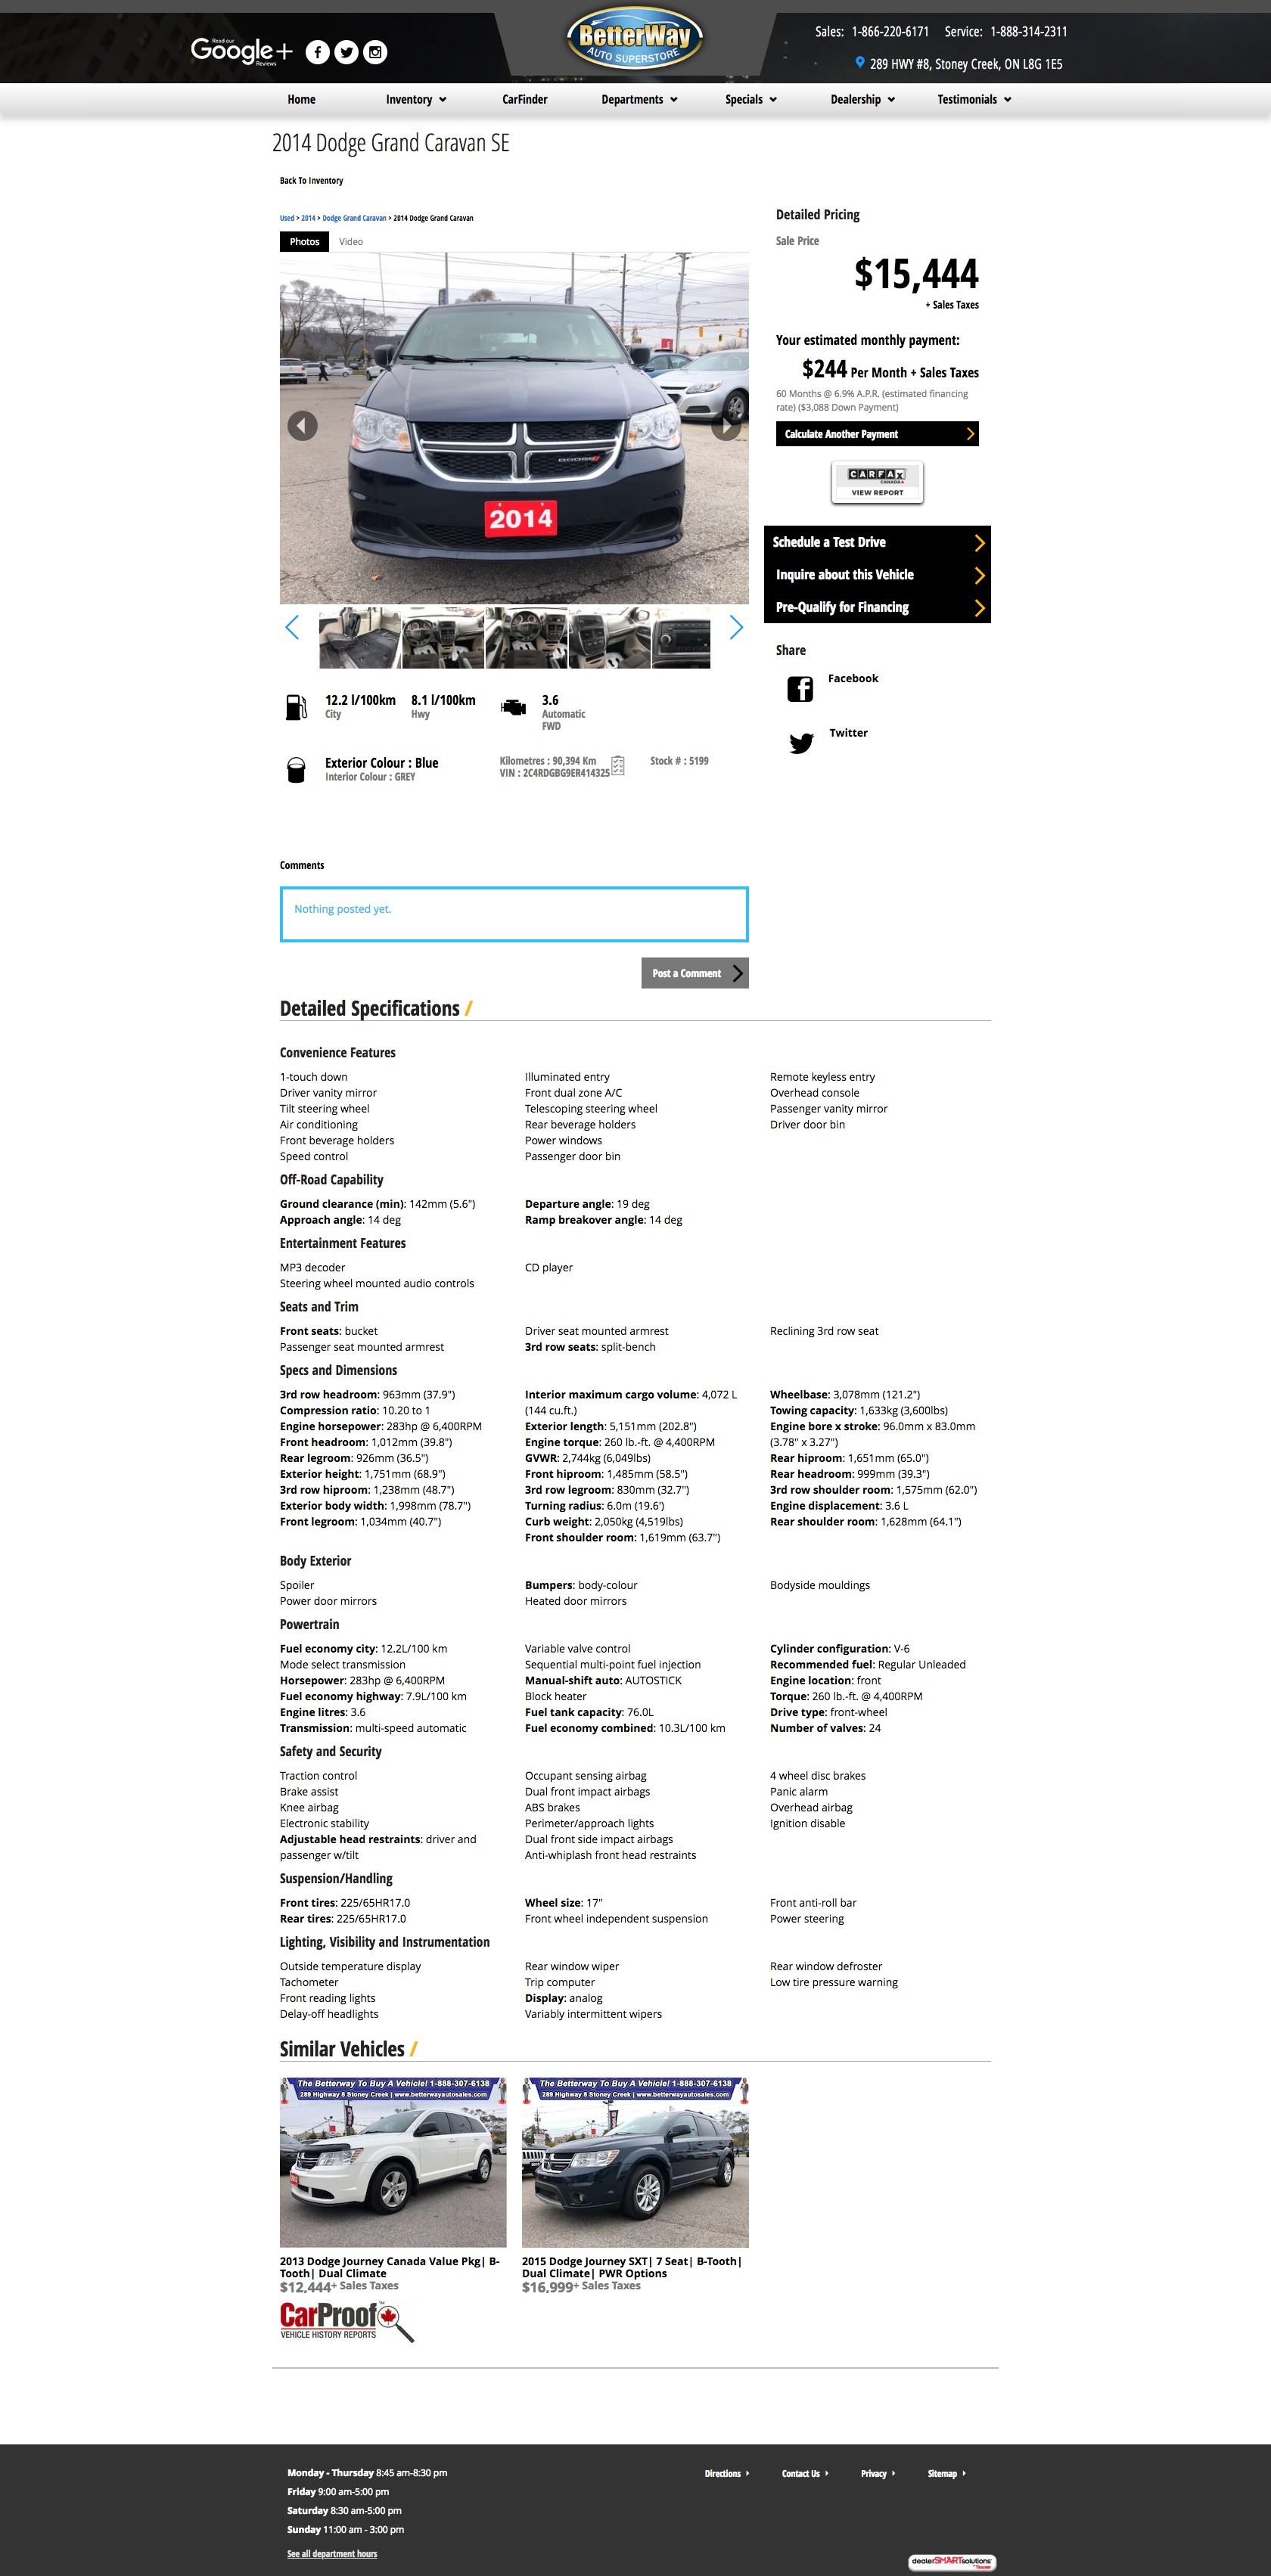car: (730, 616, 743, 639)
